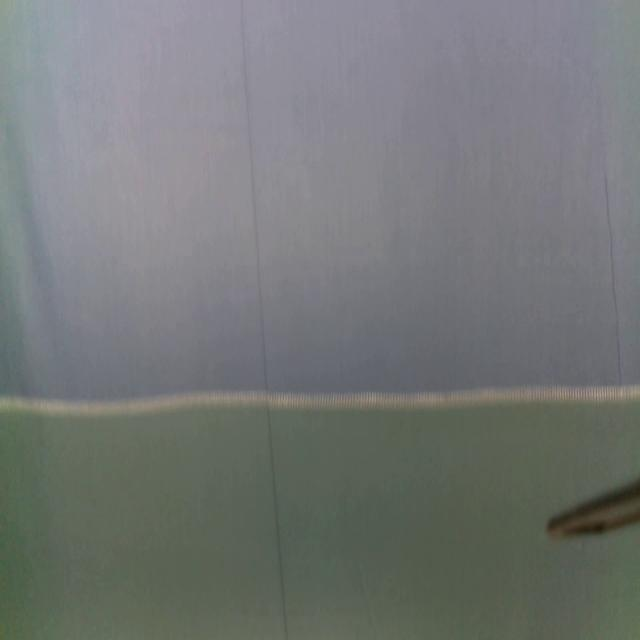crease: (239, 0, 290, 640), (606, 174, 624, 388)
